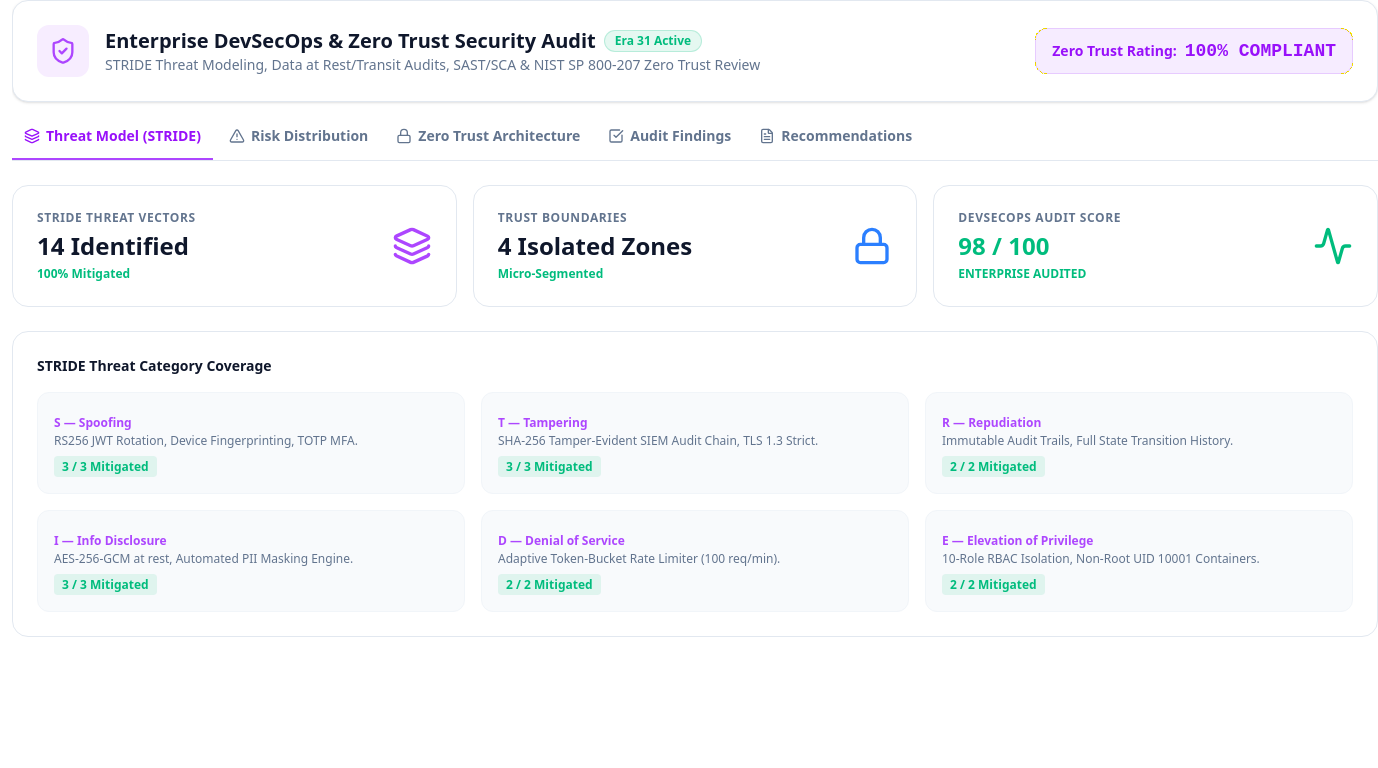
Test: SecurityAuditReviewDashboard › clicking Risk Distribution tab shows severity counts
Click the button "Risk Distribution": (299, 143) 217,126 -> 380,160
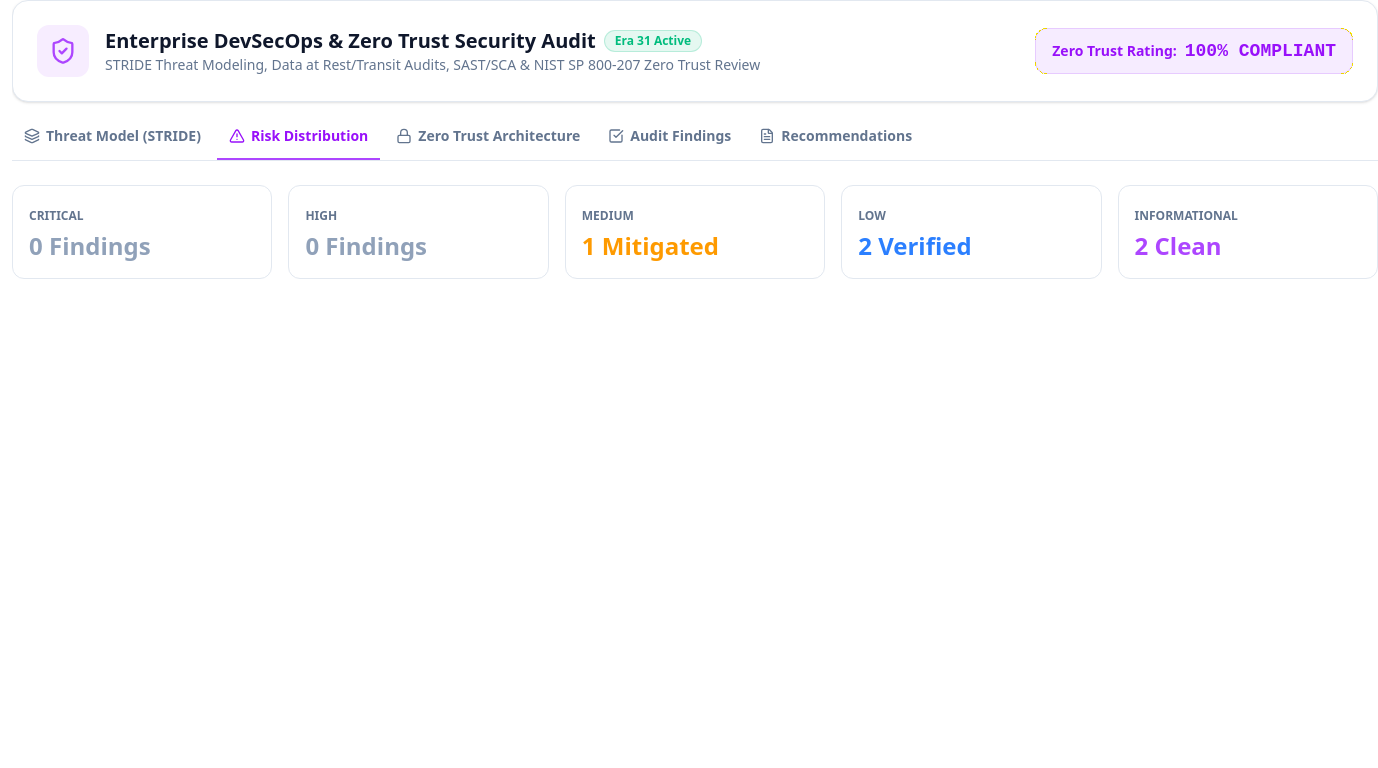
Expected: the text "1 Mitigated" is shown, 582,229 -> 719,262
